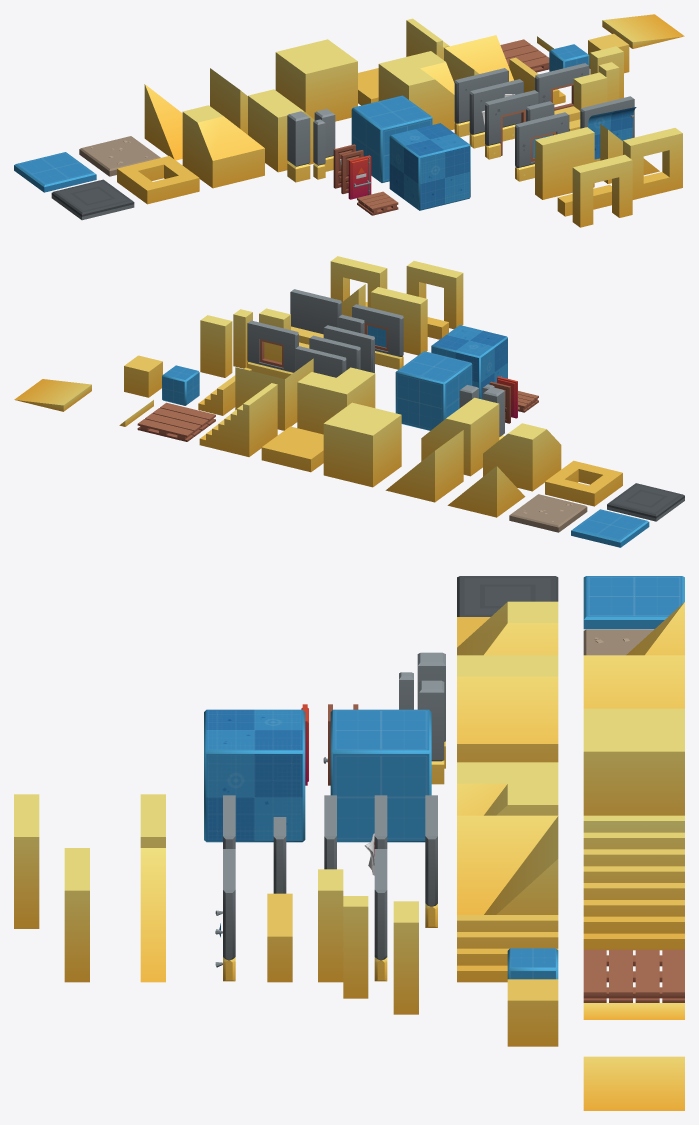
The model's file is kaykit_prototype_bits.glb.
3 views of the same model, one above another, from view 1: azimuth 30°, elevation 25°; view 2: azimuth 150°, elevation 25°; view 3: azimuth 270°, elevation 25° (orthographic). The views are drawn at different scales.
Visible parts, largest first — view 1: Cube_Prototype_Large_B, Primitive_Cube, Primitive_Slope_Half_OuterCorner, Primitive_Slope_Half_InnerCorner, Cube_Prototype_Large_A, Primitive_Wall, Primitive_Doorway, Primitive_Window, Primitive_Slope_Half, Primitive_Floor_Hole, Floor, Primitive_Slope_OuterCorner (+30 smaller); view 2: Primitive_Cube, Cube_Prototype_Large_A, Primitive_Slope_Half_OuterCorner, Primitive_Slope_Half_InnerCorner, Primitive_Stairs, Primitive_Slope_Half, Cube_Prototype_Large_B, Primitive_Slope, Primitive_Floor_Hole, Primitive_Slope_InnerCorner, Wall_Window_Open, Primitive_Doorway (+21 smaller); view 3: Primitive_Stairs, Cube_Prototype_Large_B, Cube_Prototype_Large_A, Primitive_Cube, Primitive_Slope_Half, Primitive_Slope_InnerCorner, Primitive_Slope_StepLong, Primitive_Slope, Primitive_Slope_Half_InnerCorner, Pallet_Large, Primitive_Stairs_Half, Floor_Prototype (+23 smaller).
Boxes of the visible parts, box(x1,y1,x2,y2) form: Cube_Prototype_Large_B: box(389, 123, 470, 210); Primitive_Cube: box(275, 39, 357, 121); Primitive_Slope_Half_OuterCorner: box(182, 105, 264, 188); Primitive_Slope_Half_InnerCorner: box(378, 51, 454, 130); Cube_Prototype_Large_A: box(351, 95, 432, 182); Primitive_Wall: box(535, 127, 594, 199); Primitive_Doorway: box(572, 154, 632, 227); Primitive_Window: box(623, 128, 682, 199); Primitive_Slope_Half: box(248, 89, 314, 172); Primitive_Floor_Hole: box(117, 156, 199, 204); Floor: box(51, 179, 134, 220); Primitive_Slope_OuterCorner: box(144, 84, 182, 160); Primitive_Cube: box(323, 402, 401, 487); Cube_Prototype_Large_A: box(395, 351, 472, 430); Primitive_Slope_Half_OuterCorner: box(483, 423, 561, 491); Primitive_Slope_Half_InnerCorner: box(297, 367, 375, 434); Primitive_Stairs: box(199, 383, 277, 456); Primitive_Slope_Half: box(421, 397, 499, 476); Cube_Prototype_Large_B: box(431, 325, 507, 399); Primitive_Slope: box(385, 430, 463, 502); Primitive_Floor_Hole: box(545, 460, 622, 506); Primitive_Slope_InnerCorner: box(235, 358, 313, 430); Wall_Window_Open: box(247, 320, 298, 378); Primitive_Doorway: box(406, 261, 463, 329); Primitive_Stairs: box(583, 815, 684, 950); Cube_Prototype_Large_B: box(204, 709, 305, 842); Cube_Prototype_Large_A: box(330, 709, 431, 842); Primitive_Cube: box(583, 708, 684, 815); Primitive_Slope_Half: box(457, 655, 558, 762); Primitive_Slope_InnerCorner: box(457, 815, 558, 914); Primitive_Slope_StepLong: box(583, 1056, 684, 1110); Primitive_Slope: box(583, 655, 684, 708); Primitive_Slope_Half_InnerCorner: box(457, 762, 558, 815); Pallet_Large: box(583, 949, 684, 1002); Primitive_Stairs_Half: box(457, 915, 558, 982); Floor_Prototype: box(583, 576, 684, 629).
Size of the model in its own units: 49 by 4.57 by 26.5.
43 materials, 43 textured.
